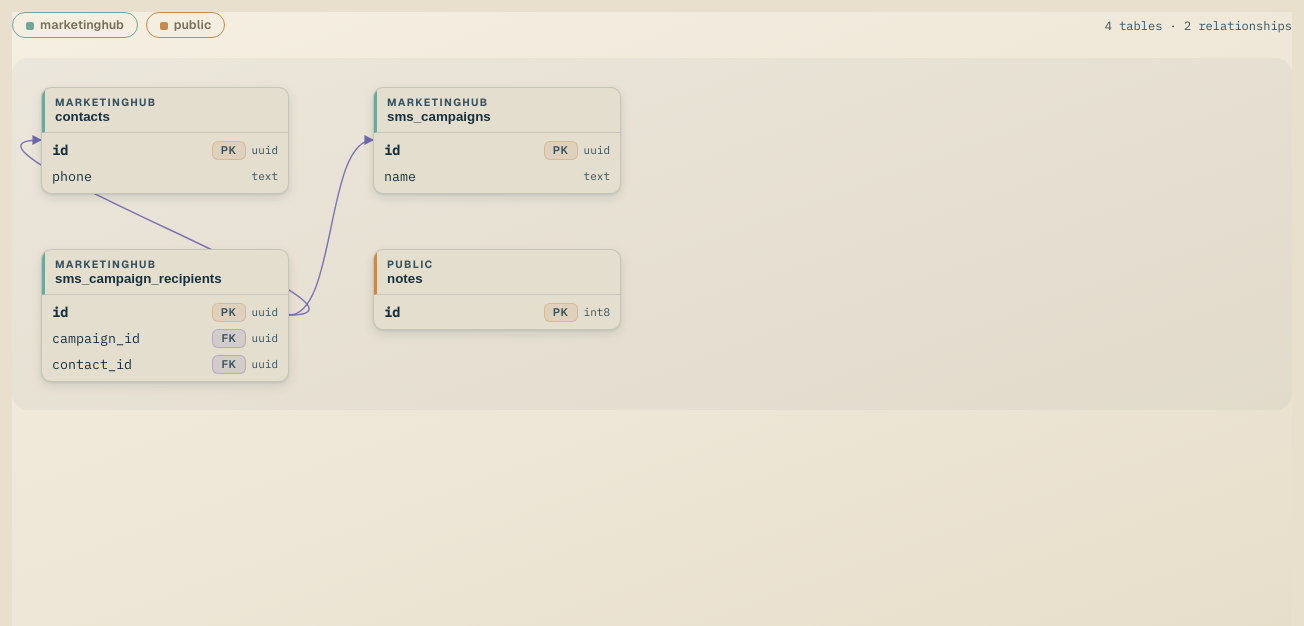
SchemaDesignerCanvas › toggling a schema chip hides that schema's tables and re-lays out
Check: the text "notes" is shown, box [387, 271, 422, 286]
Click the button "public".
click(186, 25)  # box [146, 12, 225, 38]
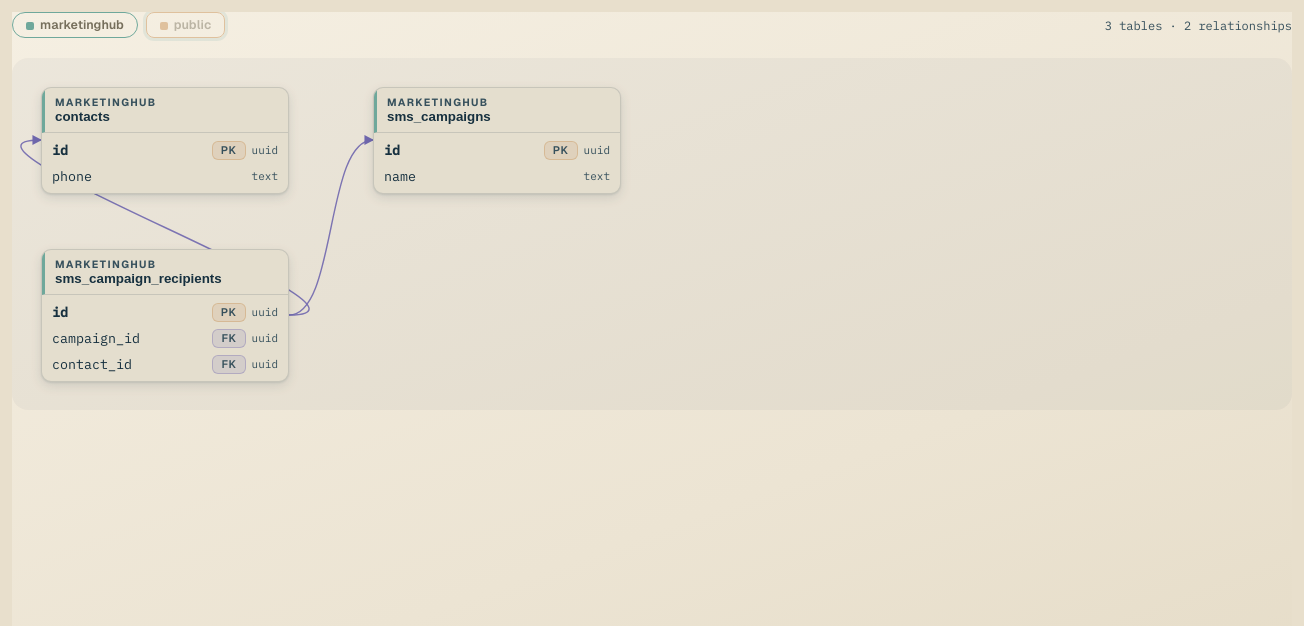
Check: the text "contacts" is shown, box [55, 109, 110, 124]
Check: the button "notes" is gone
